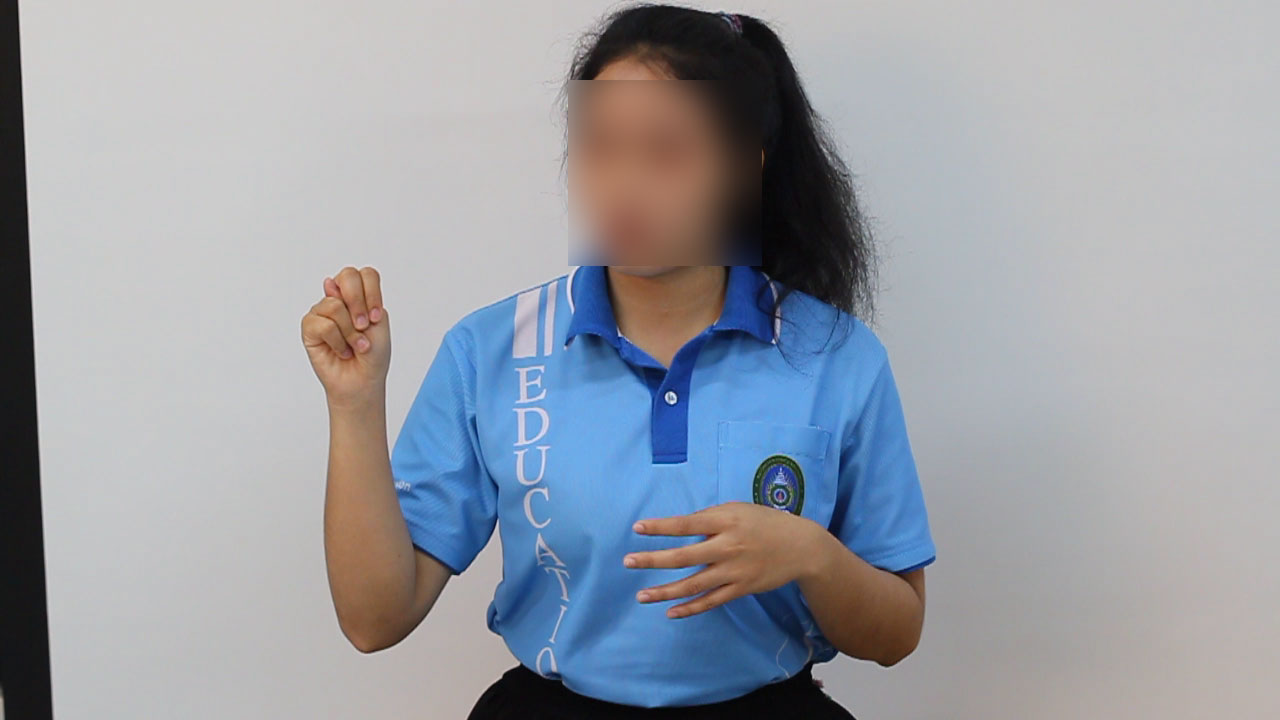nor: (289, 257, 406, 413)
